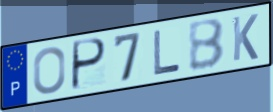7: (112, 30, 144, 84)
B: (186, 17, 226, 73)
K: (231, 12, 260, 63)
L: (152, 28, 182, 77)
O: (31, 45, 67, 96)
P: (70, 37, 109, 93)
